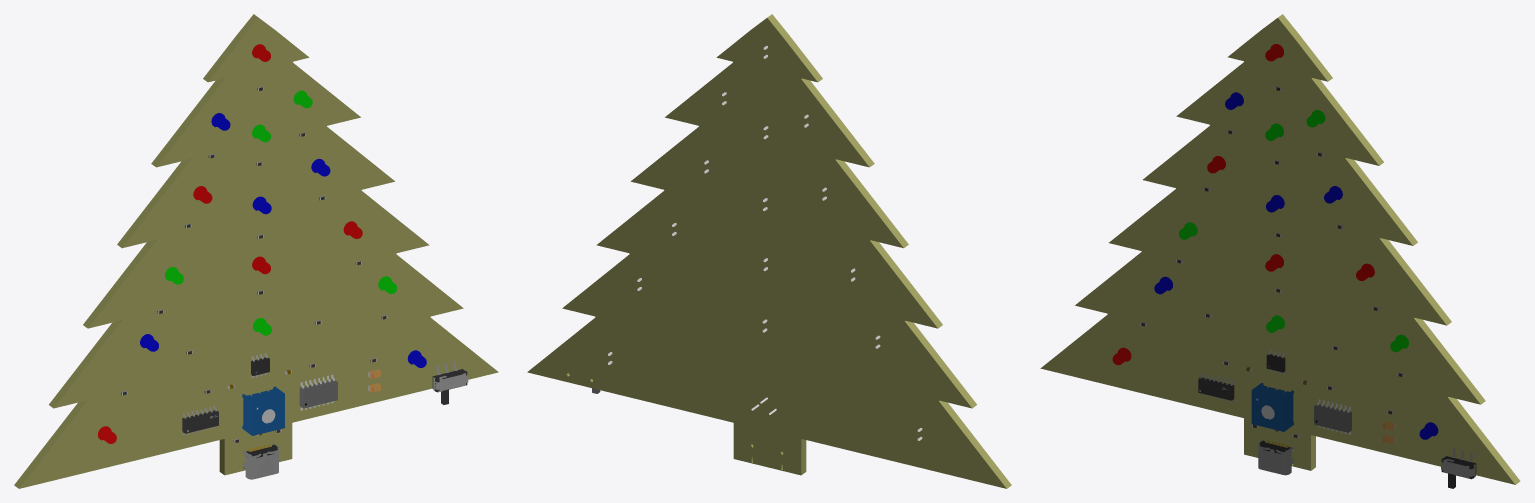
The model's file is OBJ_PCB_СКай.obj.
3 renders of one model, left to right at view 1: azimuth 30°, elevation 25°; view 2: azimuth 150°, elevation 25°; view 3: azimuth 330°, elevation 25°, orthographic.
Size of the model in its own units: 548 by 495 by 41.73.
